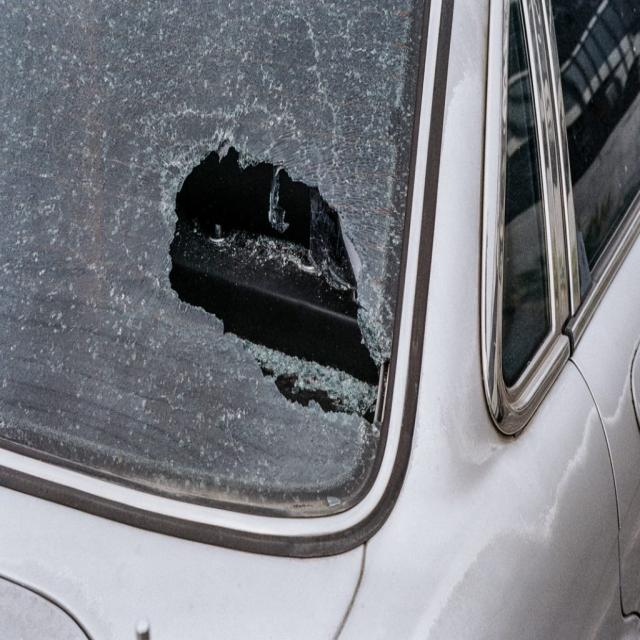shatter: (151, 126, 388, 438)
